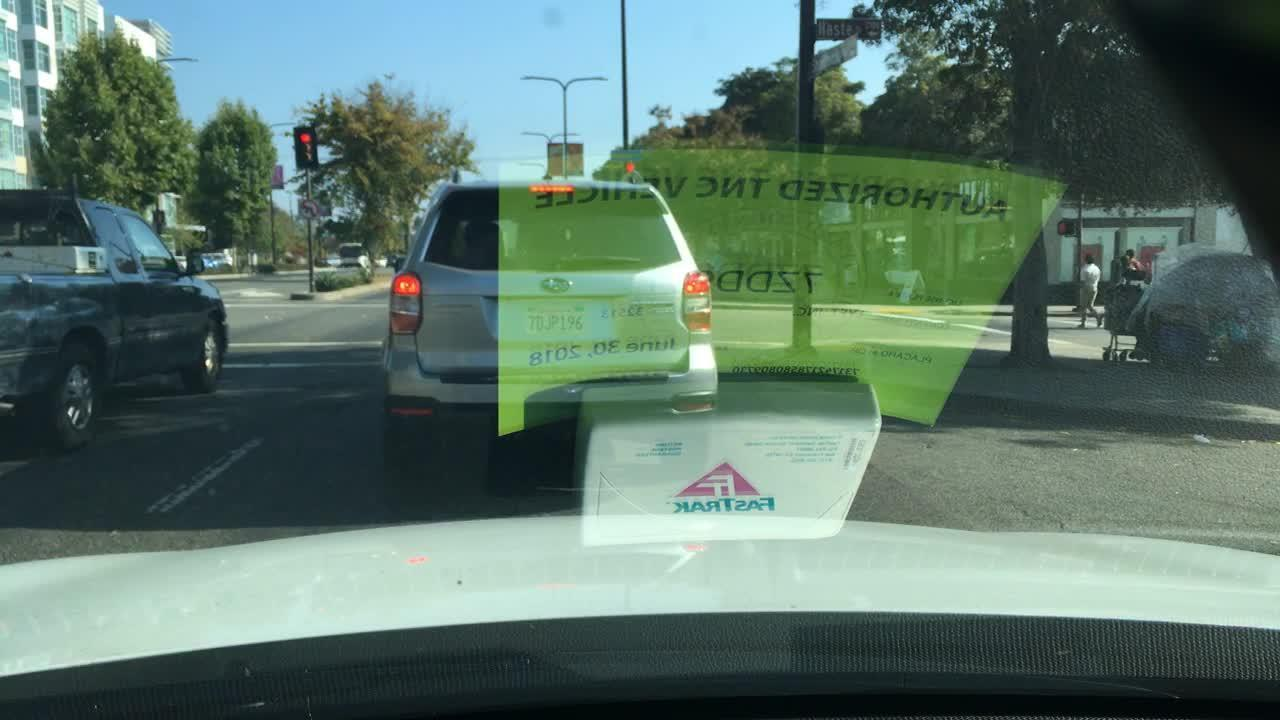subaru: (542, 270, 580, 296)
